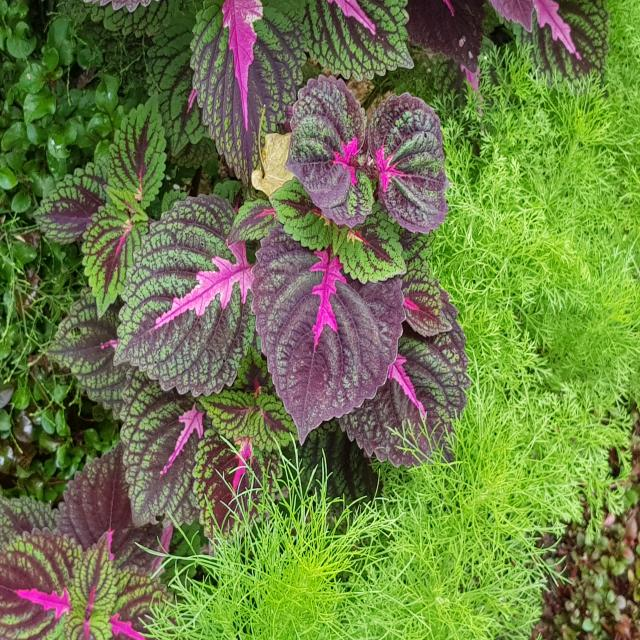Coleus: (165, 7, 468, 454), (0, 486, 174, 640)
Dill: (482, 102, 640, 504), (198, 515, 553, 640)
